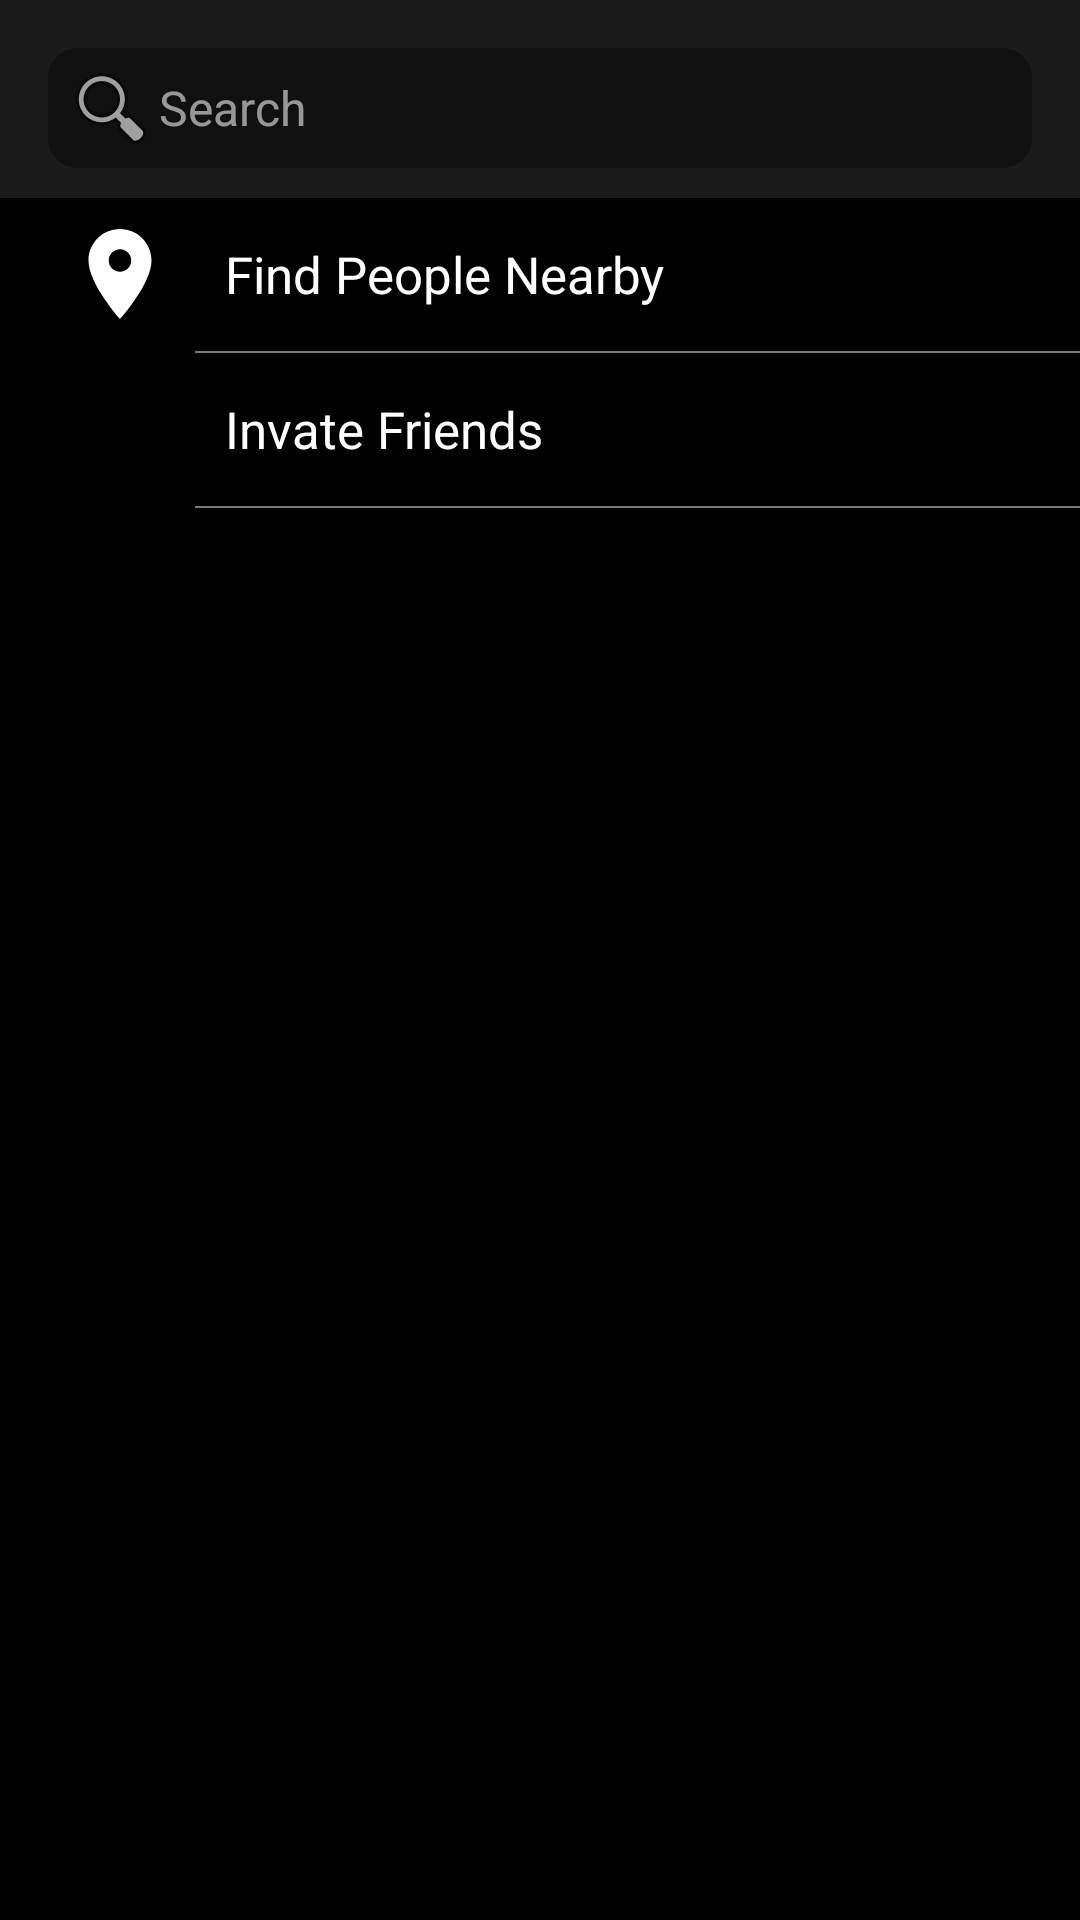

Locate icon controls on the screen. Image size 1080 x 1920, boxes as box(x1, y1, x2, y2).
location: box(88, 229, 152, 319)
